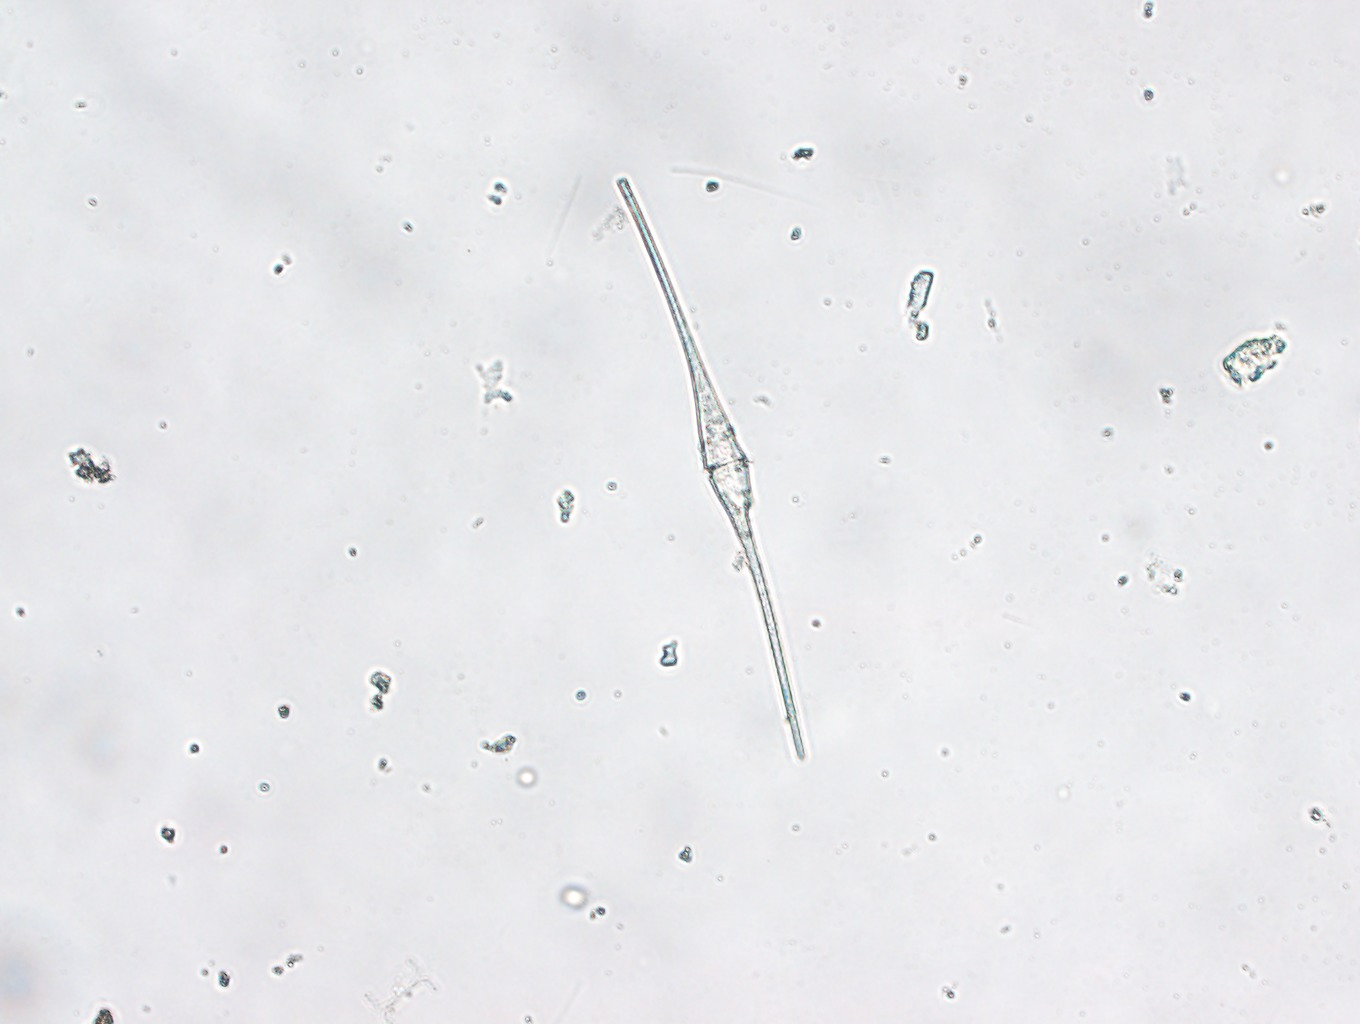ceratium fusus: (617, 172, 808, 766)
